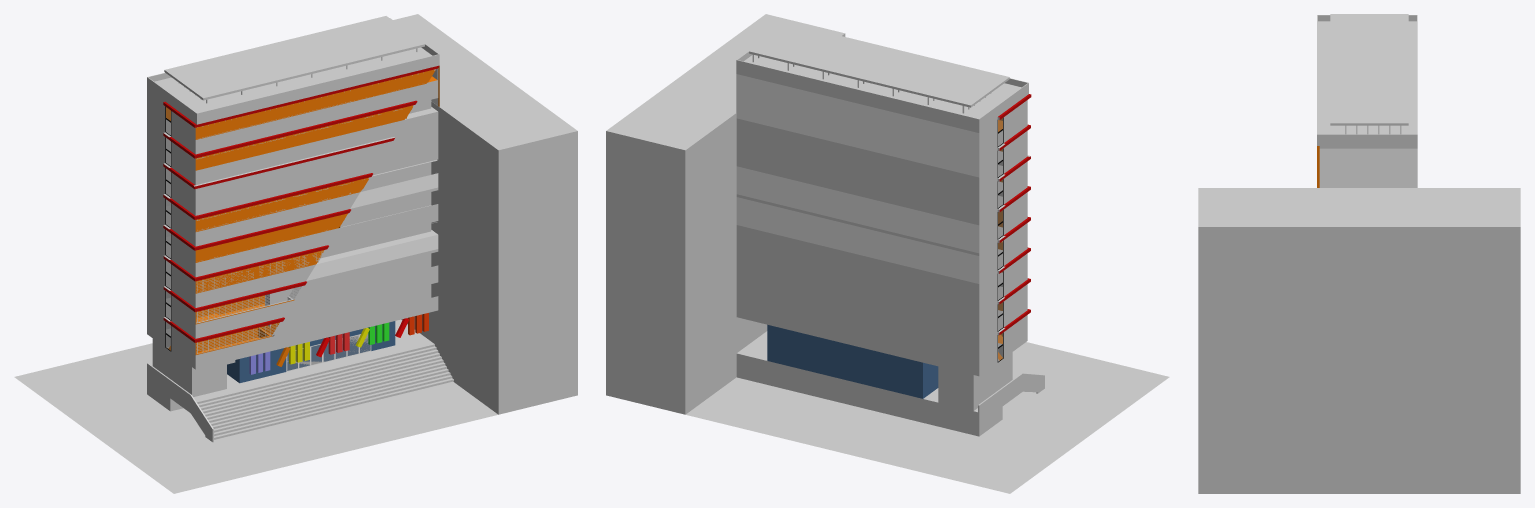
The model's file is nha-ii.fbx.
3 views of the same model, side by side, from view 1: azimuth 30°, elevation 25°; view 2: azimuth 150°, elevation 25°; view 3: azimuth 270°, elevation 25° (orthographic).
Parts seen in each view (by area): view 1: Model, Group79, Group78, Group44, Group1, Group45, Group80, Group76, Group66, Group75, Group65, Group67 (+7 smaller); view 2: Model, Group79, Group78, Group44, Group45, Group80; view 3: Group79, Model, Group44.
Boxes of the visible parts, x1,y1,x2,y2 form: Model: [147, 18, 439, 442]; Group79: [393, 14, 577, 414]; Group78: [14, 343, 497, 493]; Group44: [164, 16, 424, 100]; Group1: [265, 100, 431, 335]; Group45: [227, 321, 395, 383]; Group80: [152, 338, 226, 396]; Group76: [214, 378, 453, 439]; Group66: [198, 346, 436, 406]; Group75: [214, 375, 452, 436]; Group65: [196, 343, 434, 403]; Group67: [200, 349, 438, 410]; Model: [736, 23, 1044, 436]; Group79: [606, 14, 845, 414]; Group78: [686, 342, 1169, 493]; Group44: [749, 23, 1009, 107]; Group45: [767, 324, 938, 398]; Group80: [938, 352, 1012, 411]; Group79: [1198, 188, 1520, 493]; Model: [1317, 15, 1417, 187]; Group44: [1330, 14, 1408, 125].
Bounding box in the file's own units: 57134 × 43918 × 39144.
